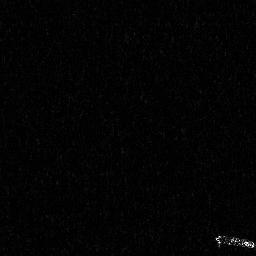ship: (213, 232, 256, 253)
